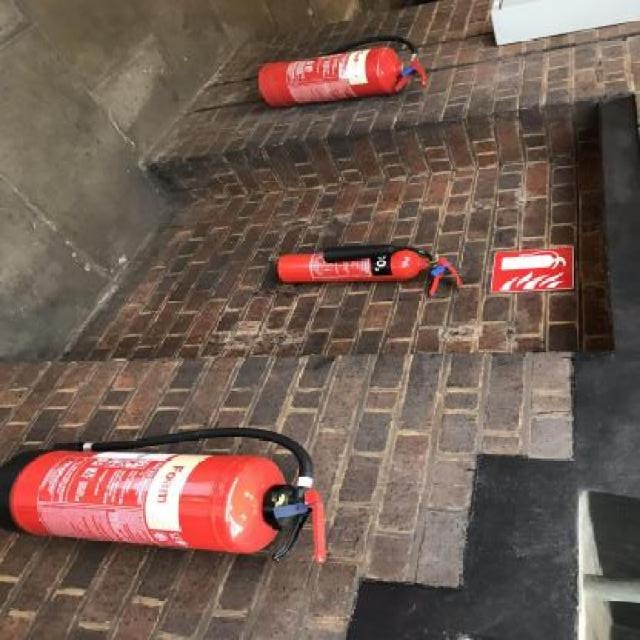fire extinguisher: (17, 426, 315, 557), (256, 51, 424, 106), (277, 245, 460, 291)
